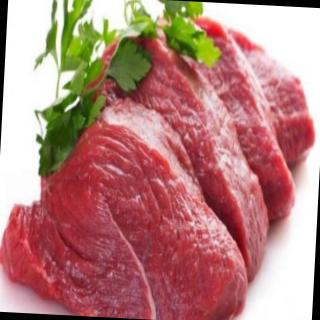Daging Sapi: (1, 101, 257, 320), (114, 31, 281, 272)
